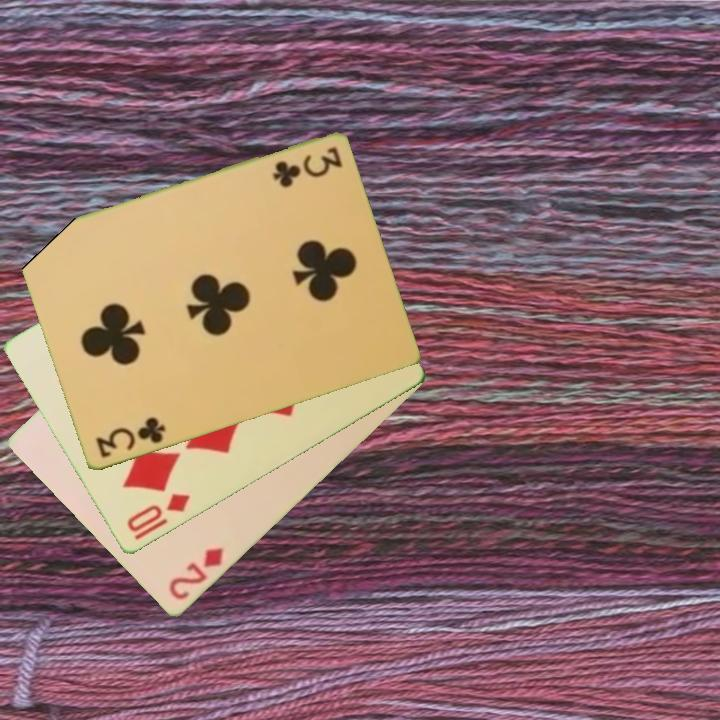10d: (123, 490, 193, 536)
2d: (165, 544, 227, 604)
3c: (92, 413, 168, 461), (268, 143, 345, 189)
